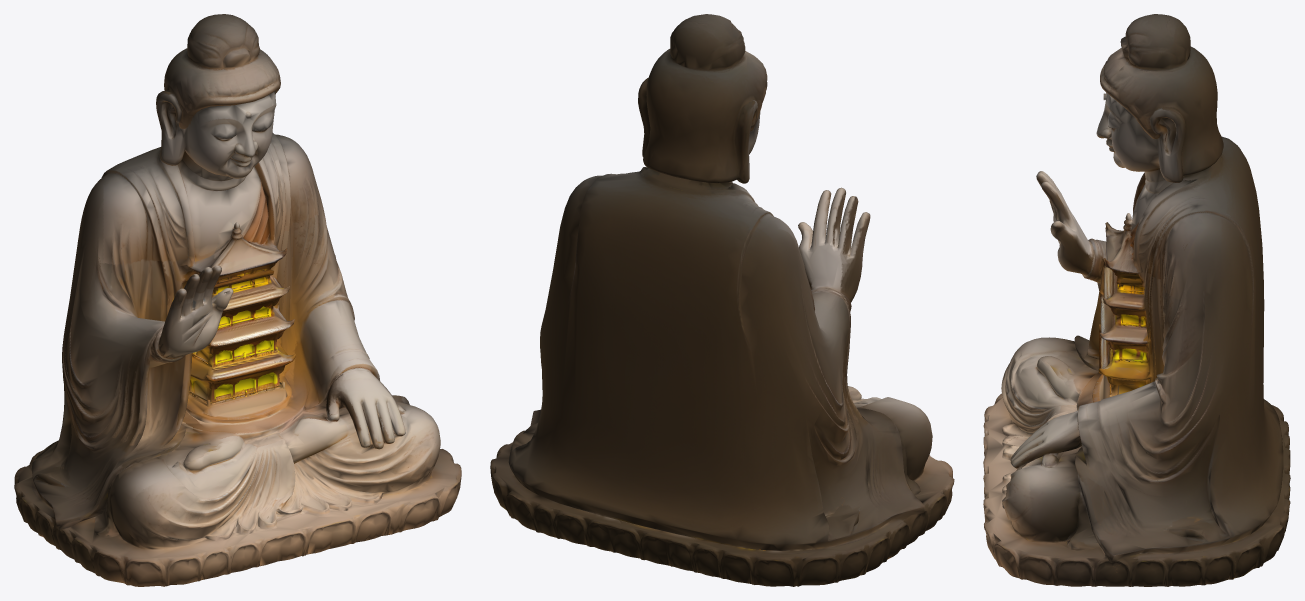
Rendered from beida-buddha.glb.
The picture shows the model from 3 angles, left to right: view 1: azimuth 30°, elevation 25°; view 2: azimuth 150°, elevation 25°; view 3: azimuth 270°, elevation 25°; orthographic projection. The views are drawn at different scales.
Parts seen in each view (by area): view 1: convert; view 2: convert; view 3: convert.
Part boxes in pixels (x1,y1,x2,y2): convert: (14, 14, 461, 586); convert: (490, 14, 954, 586); convert: (983, 14, 1290, 586).
Size of the model in its own units: 0.7586 by 0.9191 by 0.5313.
1 material, 1 textured.
